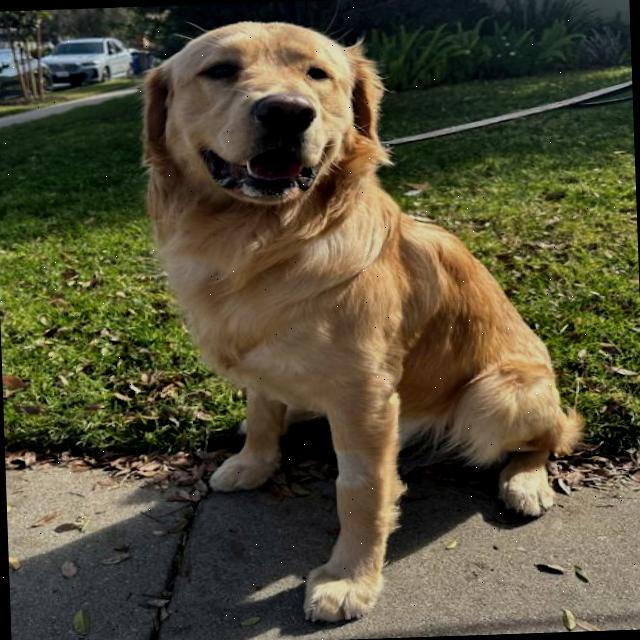golden_retriever_dog: (108, 10, 410, 225)
